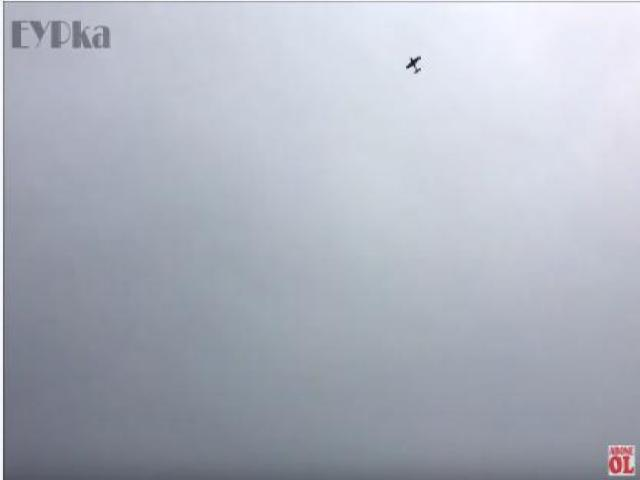uav: (404, 51, 421, 77)
